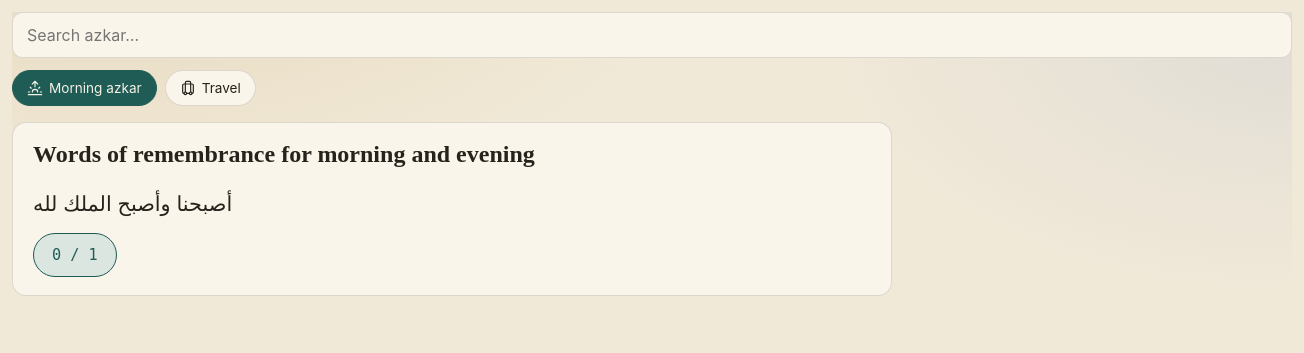
Test: AzkarBrowser › searches category titles across every section, in English or Arabic (with or without harakat)
Type "travel" into the search field labelled "Search azkar…" at (652, 35), box [12, 12, 1292, 58]
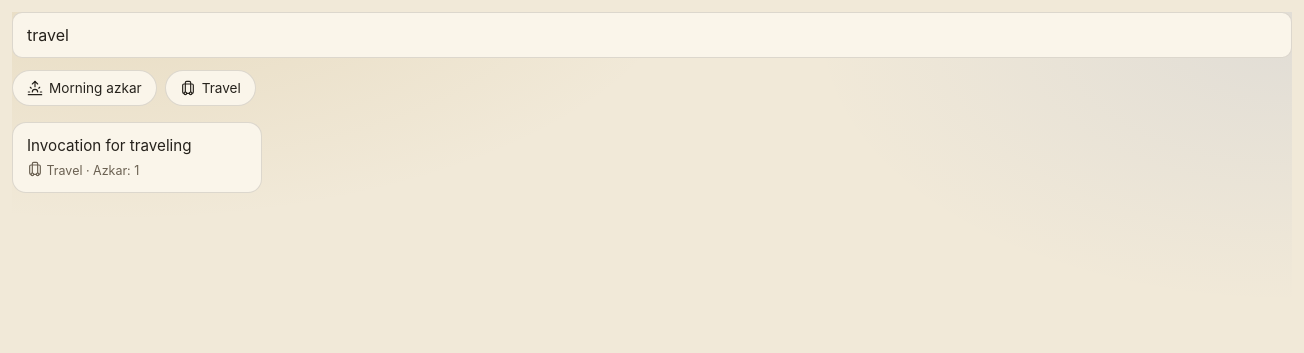
Expected: the button "Invocation for traveling Travel · Azkar: 1" is shown, [12, 122, 262, 193]
Replace the text in the search field named "Search azkar…" with "السَّفَر" at (652, 35), box [12, 12, 1292, 58]
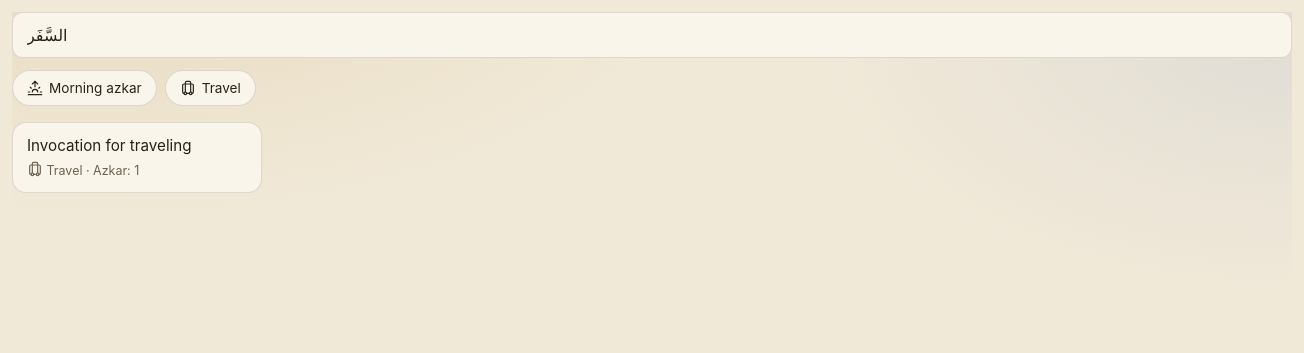
Click the button "Invocation for traveling Travel · Azkar: 1" at (137, 158), box [12, 122, 262, 193]
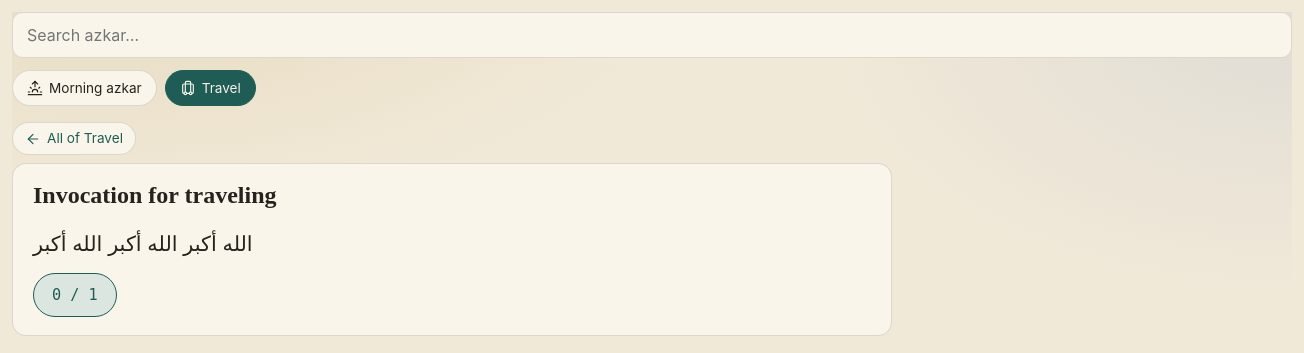
Expected: the text "الله أكبر الله أكبر الله أكبر" is shown, [33, 232, 253, 255]
